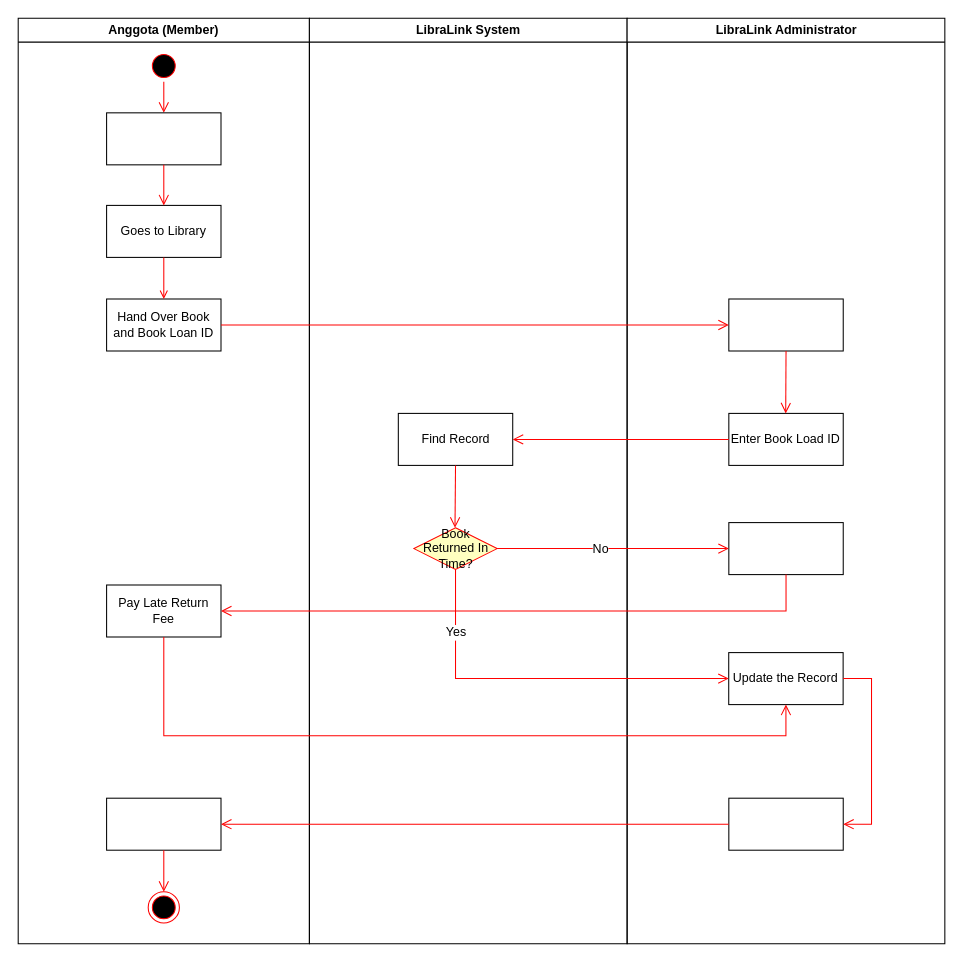
Some shapes in this 963 by 962 pixel diagram are drawn without their labels. Each missing label, with the centre of its shape:
"Inform Member of Successful Return" goes at (785,823).
"Inform User of the Book's Late Return Fee" goes at (785,548).
"Receive Book" goes at (785,324).
"Receive Confirmation" goes at (163,823).
"Receives Notification to Return the Book" goes at (163,138).
